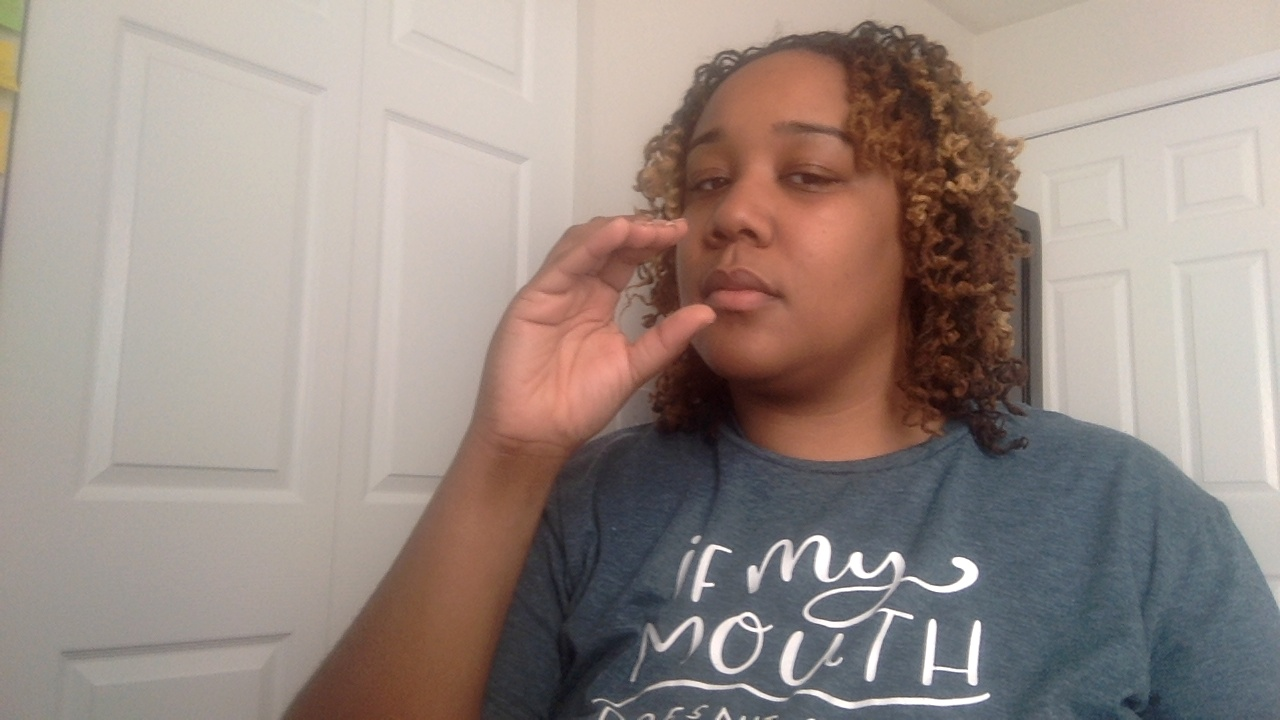drink: (487, 207, 813, 460)
